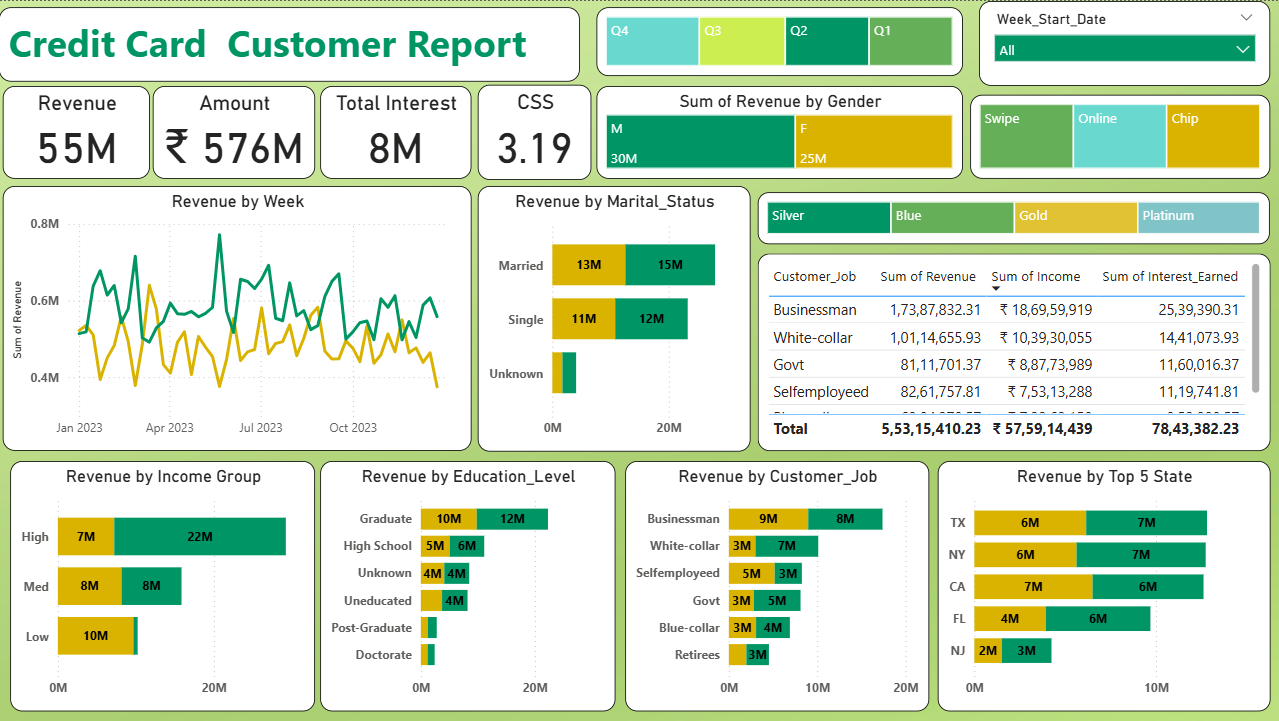

The page's visual inventory and layout, read from the dashboard file:
{"tool":"powerbi","page":{"name":"CC Customer report","canvas":[1280,720],"ordinal":2},"visuals":[{"type":"textbox","box":[0,6.1,580.5,74.4],"z":0},{"type":"barChart","title":"Revenue by Income Group","fields":{"Y":["Sum(creadit_card.Revenue)"],"Category":["customer.Income Group"],"Series":["customer.Gender"]},"box":[11.2,460,305,250],"z":1000},{"type":"tableEx","fields":{"Values":["customer.Customer_Job","Sum(creadit_card.Revenue)","Sum(customer.Income)","Sum(creadit_card.Interest_Earned)"]},"box":[758.8,252.5,512.5,197.5],"z":2000},{"type":"card","title":"Revenue","fields":{"Values":["Sum(creadit_card.Revenue)"]},"box":[3.3,84.9,147.4,93],"z":3000},{"type":"card","title":"Total Interest","fields":{"Values":["Sum(creadit_card.Interest_Earned)"]},"box":[320.9,84.9,141.9,93],"z":4000},{"type":"card","title":"Amount","fields":{"Values":["Sum(customer.Income)"]},"box":[153.5,84.9,162.8,93],"z":5000},{"type":"slicer","fields":{"Values":["creadit_card.Week_Start_Date"]},"box":[980.2,0,291.4,85.2],"z":6000},{"type":"treemap","fields":{"Group":["creadit_card.Qtr"],"Values":["Avg(customer.Client_Num)"]},"box":[597.5,6.2,366.2,68.8],"z":7000},{"type":"treemap","fields":{"Values":["Avg(customer.Client_Num)"],"Group":["creadit_card.Card_Category"]},"box":[759.3,191.4,512.3,51.9],"z":8000},{"type":"card","title":"CSS","fields":{"Values":["Avg(customer.Cust_Satisfaction_Score)"]},"box":[466.3,82.6,114,95.3],"z":9000},{"type":"lineChart","title":" Revenue  by Week","fields":{"Y":["Sum(creadit_card.Revenue)"],"Series":["customer.Gender"],"Category":["creadit_card.Week_Start_Date.Variation.Date Hierarchy.Year","creadit_card.Week_Start_Date.Variation.Date Hierarchy.Month","creadit_card.Week_Start_Date.Variation.Date Hierarchy.Day"]},"box":[3.8,185,468.8,265],"z":10000},{"type":"treemap","fields":{"Values":["Sum(creadit_card.Revenue)"],"Group":["customer.Gender"]},"box":[597.3,85.5,366.4,92.7],"z":11000},{"type":"barChart","title":"Revenue by Education_Level","fields":{"Y":["Sum(creadit_card.Revenue)"],"Category":["customer.Education_Level"],"Series":["customer.Gender"]},"box":[321.2,460,295,250],"z":12000},{"type":"barChart","title":"Revenue by Customer_Job","fields":{"Y":["Sum(creadit_card.Revenue)"],"Category":["customer.Customer_Job"],"Series":["customer.Gender"]},"box":[626.2,460,303.8,250],"z":13000},{"type":"barChart","title":"Revenue by Top 5 State ","fields":{"Y":["Sum(creadit_card.Revenue)"],"Category":["customer.state_cd"],"Series":["customer.Gender"]},"box":[938.8,460,332.5,250],"z":14000},{"type":"barChart","title":"Revenue by Marital_Status","fields":{"Y":["Sum(creadit_card.Revenue)"],"Category":["customer.Marital_Status"],"Series":["customer.Gender"]},"box":[478.8,185,272.6,265.5],"z":15000},{"type":"treemap","fields":{"Values":["Avg(customer.Client_Num)"],"Group":["creadit_card.Use Chip"]},"box":[971.6,93.8,300,84],"z":16000}]}

Visuals, with their boxes in screenshot pixels (x1, y1, x2, y2), scaled from the page's 1280x720 canvas onto the 1279x721 screenshot:
textbox: [0, 6, 580, 81]
"Revenue by Income Group" barChart: [11, 461, 316, 711]
tableEx - customer.Customer_Job x Sum(creadit_card.Revenue): [758, 253, 1270, 451]
"Revenue" card: [3, 85, 151, 178]
"Total Interest" card: [321, 85, 462, 178]
"Amount" card: [153, 85, 316, 178]
slicer - creadit_card.Week_Start_Date: [979, 0, 1271, 85]
treemap - creadit_card.Qtr x Avg(customer.Client_Num): [597, 6, 963, 75]
treemap - Avg(customer.Client_Num) x creadit_card.Card_Category: [759, 192, 1271, 244]
"CSS" card: [466, 83, 580, 178]
" Revenue  by Week" lineChart: [4, 185, 472, 451]
treemap - Sum(creadit_card.Revenue) x customer.Gender: [597, 86, 963, 178]
"Revenue by Education_Level" barChart: [321, 461, 616, 711]
"Revenue by Customer_Job" barChart: [626, 461, 929, 711]
"Revenue by Top 5 State " barChart: [938, 461, 1270, 711]
"Revenue by Marital_Status" barChart: [478, 185, 751, 451]
treemap - Avg(customer.Client_Num) x creadit_card.Use Chip: [971, 94, 1271, 178]
